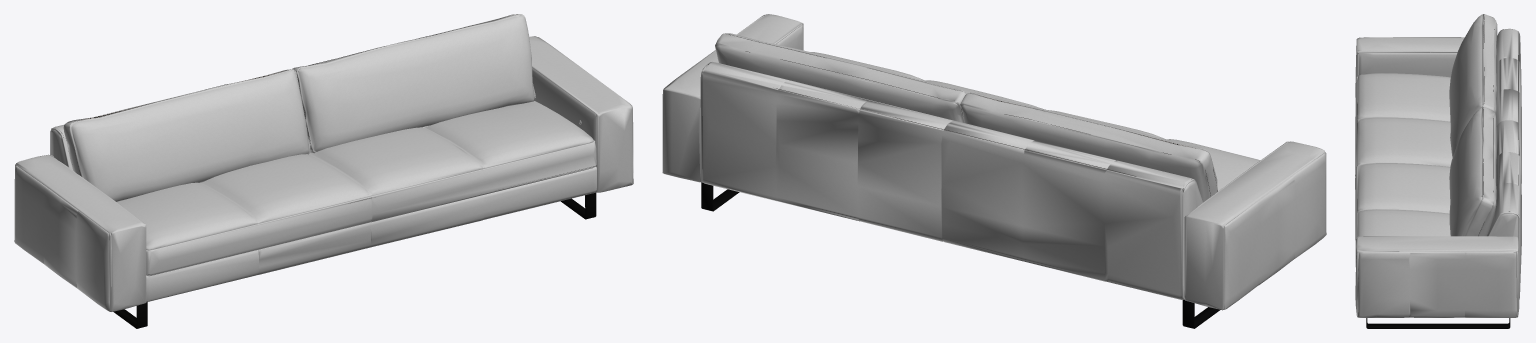
File: sofa-modelo-quatro-estofado.glb
The picture shows the model from 3 angles, left to right: view 1: azimuth 30°, elevation 25°; view 2: azimuth 150°, elevation 25°; view 3: azimuth 270°, elevation 25°; orthographic projection. The views are drawn at different scales.
Visible parts, largest first — view 1: Modelo Quatro Estofado; view 2: Modelo Quatro Estofado; view 3: Modelo Quatro Estofado.
Boxes of the visible parts, <box> form: Modelo Quatro Estofado: <box>14,14,633,328</box>; Modelo Quatro Estofado: <box>662,14,1326,328</box>; Modelo Quatro Estofado: <box>1355,14,1521,328</box>.
Bounding box in the file's own units: 2.8 × 0.779 × 0.9095.
Materials: 4 (2 with a texture image).
